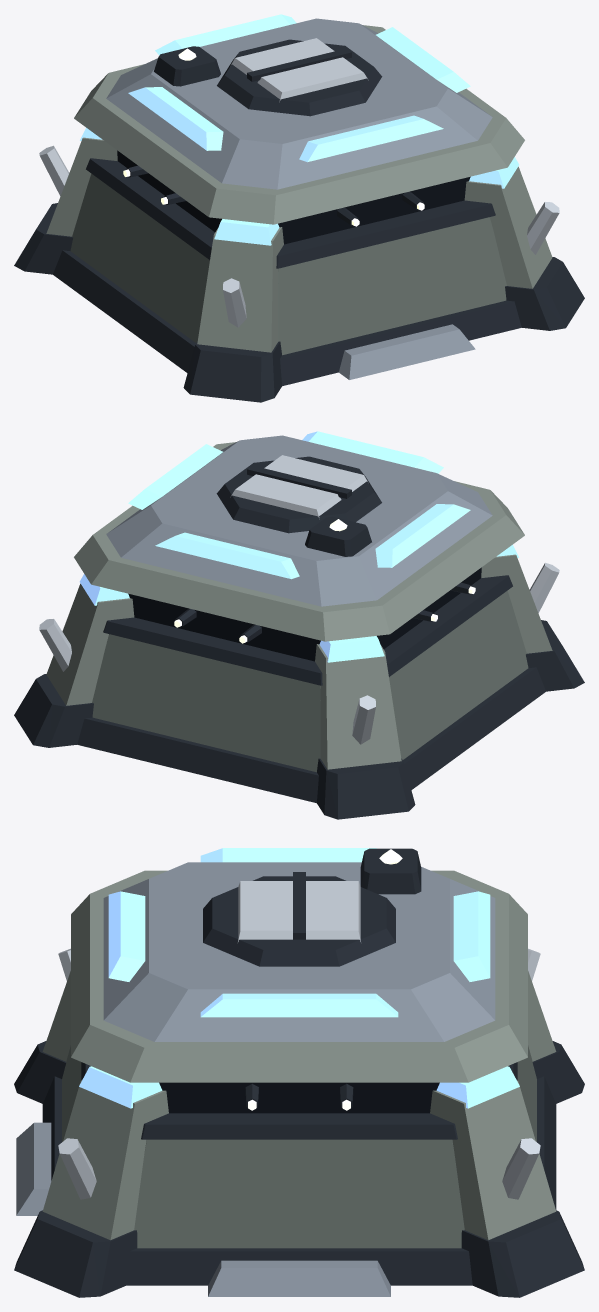
Rendered from field_bunker.glb.
The picture shows the model from 3 angles, top to bottom: view 1: azimuth 30°, elevation 25°; view 2: azimuth 150°, elevation 25°; view 3: azimuth 270°, elevation 25°; orthographic projection. The views are drawn at different scales.
Visible parts, largest first — view 1: Surf_dark, Surf_slab_hi, Surf_slab, Surf_steel, Surf_TEAM, Surf_light, Surf_slit; view 2: Surf_dark, Surf_slab_hi, Surf_slab, Surf_steel, Surf_TEAM, Surf_light, Surf_slit; view 3: Surf_slab_hi, Surf_steel, Surf_dark, Surf_slab, Surf_TEAM, Surf_light, Surf_slit.
Boxes of the visible parts, x1,y1,x2,y2 form: Surf_dark: (14, 39, 584, 402); Surf_slab_hi: (46, 25, 552, 352); Surf_slab: (70, 173, 506, 355); Surf_steel: (106, 18, 492, 379); Surf_TEAM: (80, 14, 519, 245); Surf_light: (39, 38, 559, 327); Surf_slit: (117, 150, 470, 244); Surf_dark: (14, 456, 584, 819); Surf_slab_hi: (46, 442, 552, 769); Surf_slab: (92, 590, 528, 772); Surf_steel: (106, 435, 492, 606); Surf_TEAM: (79, 431, 518, 662); Surf_light: (39, 455, 559, 744); Surf_slit: (128, 567, 481, 661); Surf_slab_hi: (42, 870, 556, 1240); Surf_steel: (16, 862, 495, 1296); Surf_dark: (14, 848, 584, 1297); Surf_slab: (62, 1045, 536, 1248); Surf_TEAM: (79, 848, 519, 1108); Surf_light: (58, 881, 540, 1199); Surf_slit: (159, 1082, 439, 1113).
Bounding box in the file's own units: 3.87 × 2.11 × 3.87.
